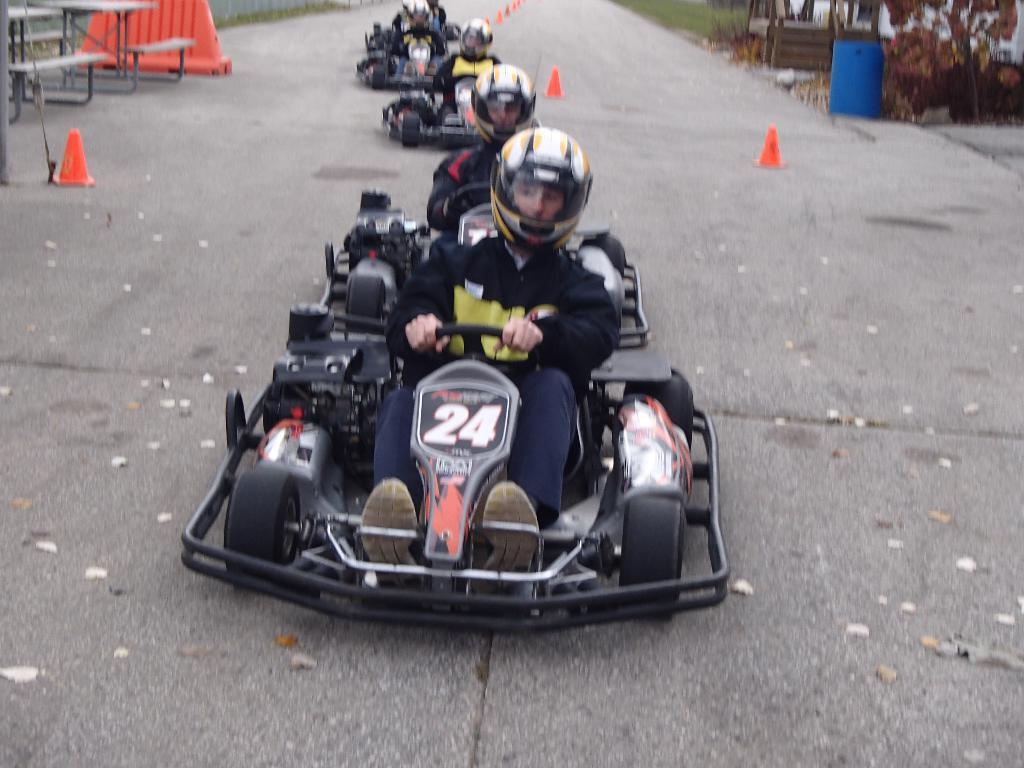helmet: (489, 127, 593, 253), (471, 63, 536, 145), (458, 18, 493, 58), (406, 0, 431, 31)
